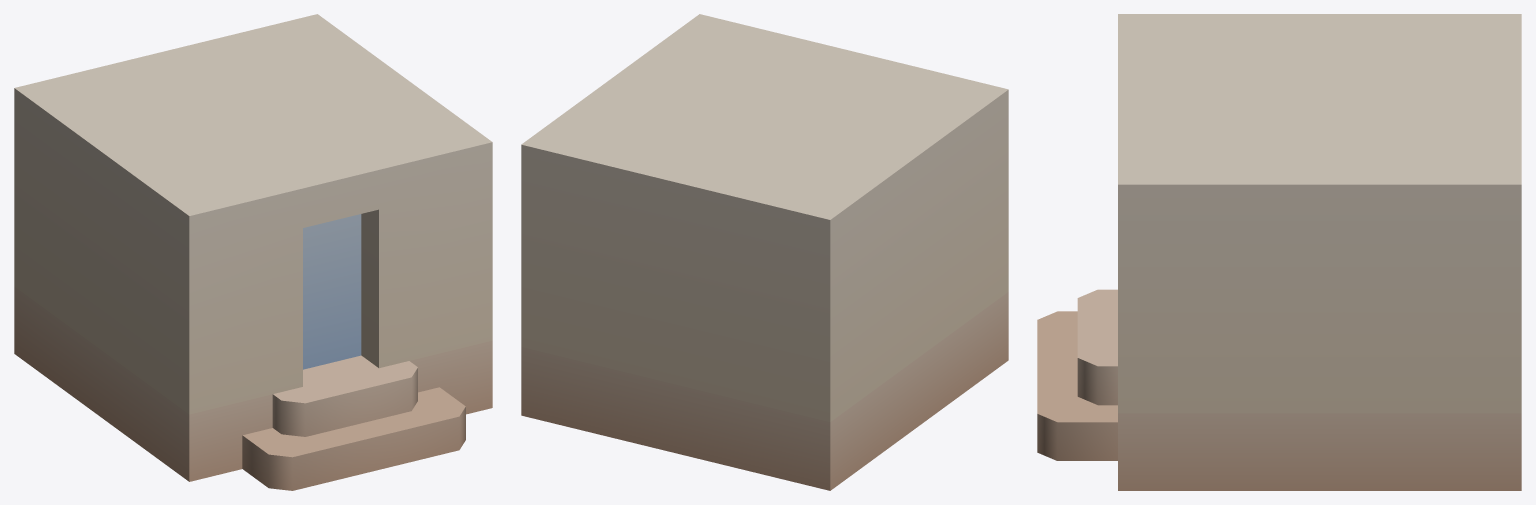
The model's file is building-steps-wide.glb.
3 views of the same model, side by side, from view 1: azimuth 30°, elevation 25°; view 2: azimuth 150°, elevation 25°; view 3: azimuth 270°, elevation 25° (orthographic). The views are drawn at different scales.
Parts seen in each view (by area): view 1: building-steps-wide; view 2: building-steps-wide; view 3: building-steps-wide.
Boxes of the visible parts, left/top/right/bottom form: building-steps-wide: left=14, top=14, right=492, bottom=490; building-steps-wide: left=521, top=14, right=1008, bottom=490; building-steps-wide: left=1037, top=14, right=1521, bottom=490.
Bounding box in the file's own units: 1 × 0.8375 × 1.2.
